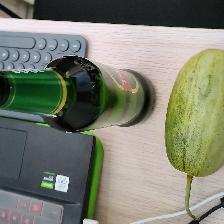gua: (165, 45, 220, 193)
